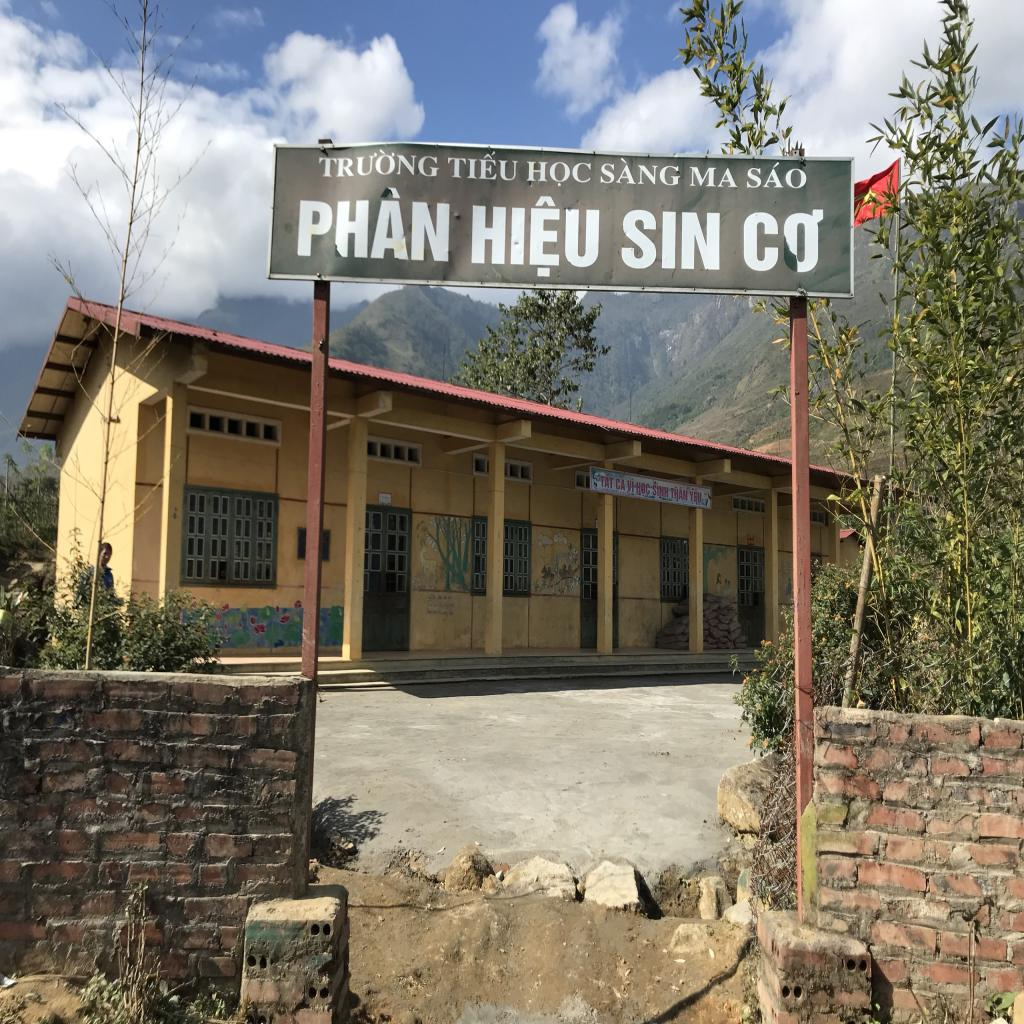text: (292, 188, 453, 267), (468, 188, 604, 280), (620, 205, 724, 273), (739, 207, 828, 278), (317, 147, 440, 178), (598, 155, 680, 189), (444, 146, 520, 181), (524, 158, 594, 188), (744, 161, 811, 192), (688, 161, 739, 191), (670, 485, 688, 502), (600, 470, 615, 489), (652, 484, 669, 498), (636, 480, 650, 496), (616, 472, 626, 492), (689, 488, 702, 503), (627, 477, 634, 493)
